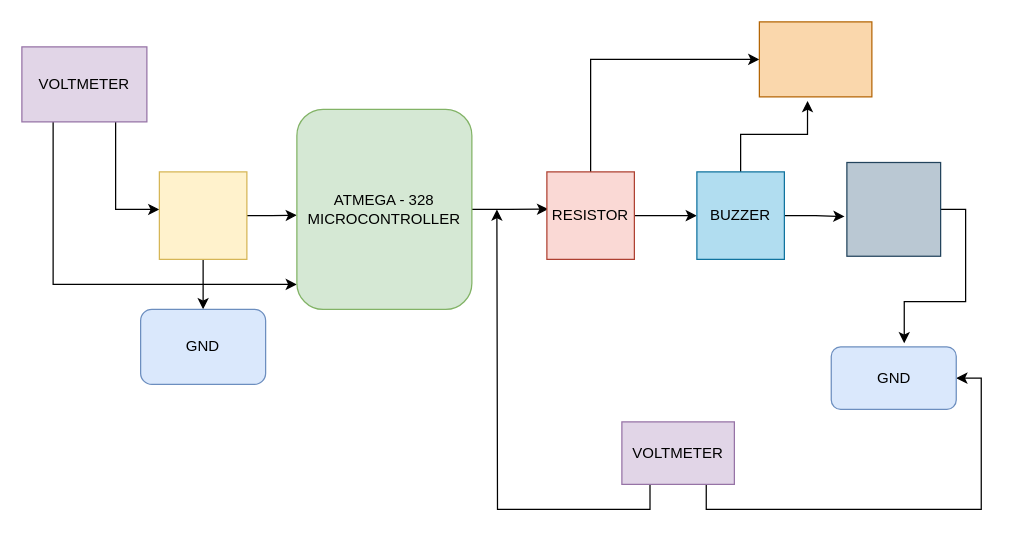
Some shapes in this 1014 by 541 pixel diagram are drawn without their labels. Here are the shapes that lost their labels. From the top down, the centre of each, then its label:
At point 815,59: "FIXED VOLT (5V)".
At point 202,215: "LED".
At point 893,208: "SWITCH".
